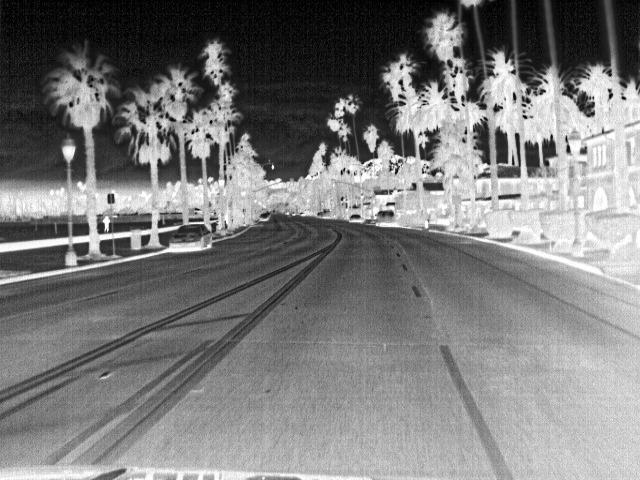car: (168, 222, 215, 252), (374, 207, 396, 228), (347, 212, 364, 225), (258, 212, 271, 224)
person: (99, 213, 112, 235)
